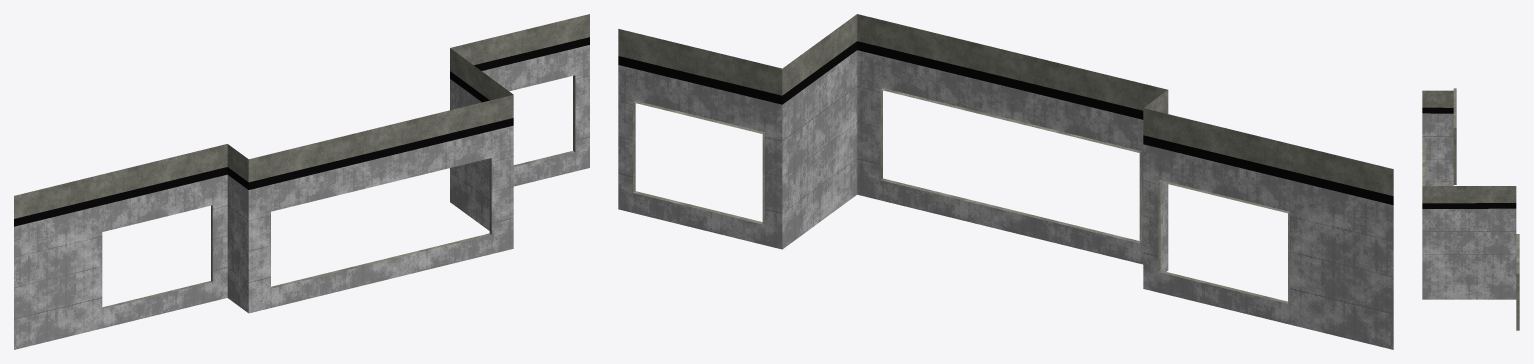
File: Outwall.glb
The picture shows the model from 3 angles, left to right: view 1: azimuth 30°, elevation 25°; view 2: azimuth 150°, elevation 25°; view 3: azimuth 270°, elevation 25°; orthographic projection. The views are drawn at different scales.
Parts seen in each view (by area): view 1: Hall2.001; view 2: Hall2.001; view 3: Hall2.001.
Part boxes in pixels (x1,y1,x2,y2): Hall2.001: (14, 14, 589, 349); Hall2.001: (618, 14, 1393, 349); Hall2.001: (1422, 88, 1519, 330).
Size of the model in its own units: 16.8 by 4 by 3.1.
3 materials, 2 textured.
